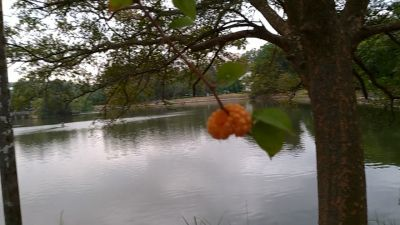eggs: (206, 103, 253, 140)
